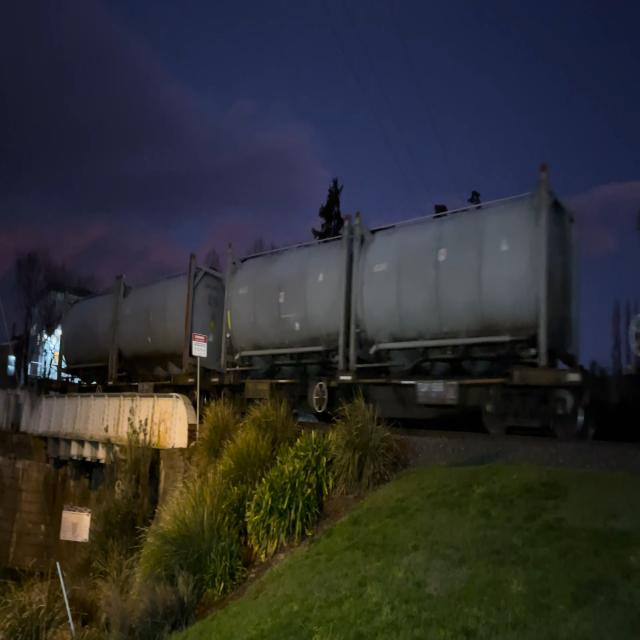tank: (347, 173, 581, 376), (215, 221, 352, 377), (113, 253, 225, 388), (55, 271, 120, 389)
